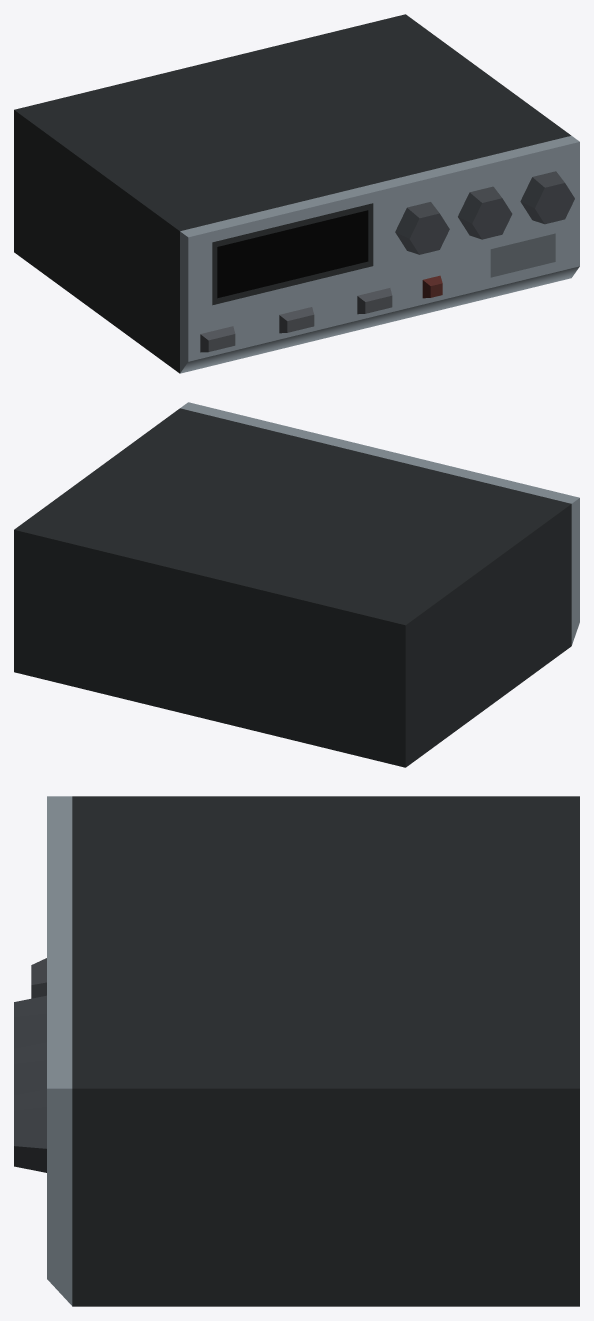
The model's file is SM_Prop_Electronics_Amp_01.glb.
The picture shows the model from 3 angles, top to bottom: view 1: azimuth 30°, elevation 25°; view 2: azimuth 150°, elevation 25°; view 3: azimuth 270°, elevation 25°; orthographic projection. The views are drawn at different scales.
Parts seen in each view (by area): view 1: SM_Prop_Electronics_Amp_01; view 2: SM_Prop_Electronics_Amp_01; view 3: SM_Prop_Electronics_Amp_01.
Boxes of the visible parts, x1,y1,x2,y2 form: SM_Prop_Electronics_Amp_01: [14, 14, 579, 373]; SM_Prop_Electronics_Amp_01: [14, 402, 579, 767]; SM_Prop_Electronics_Amp_01: [14, 796, 579, 1306].
Bounding box in the file's own units: 0.7326 × 0.2546 × 0.5996.
1 material, 1 textured.
